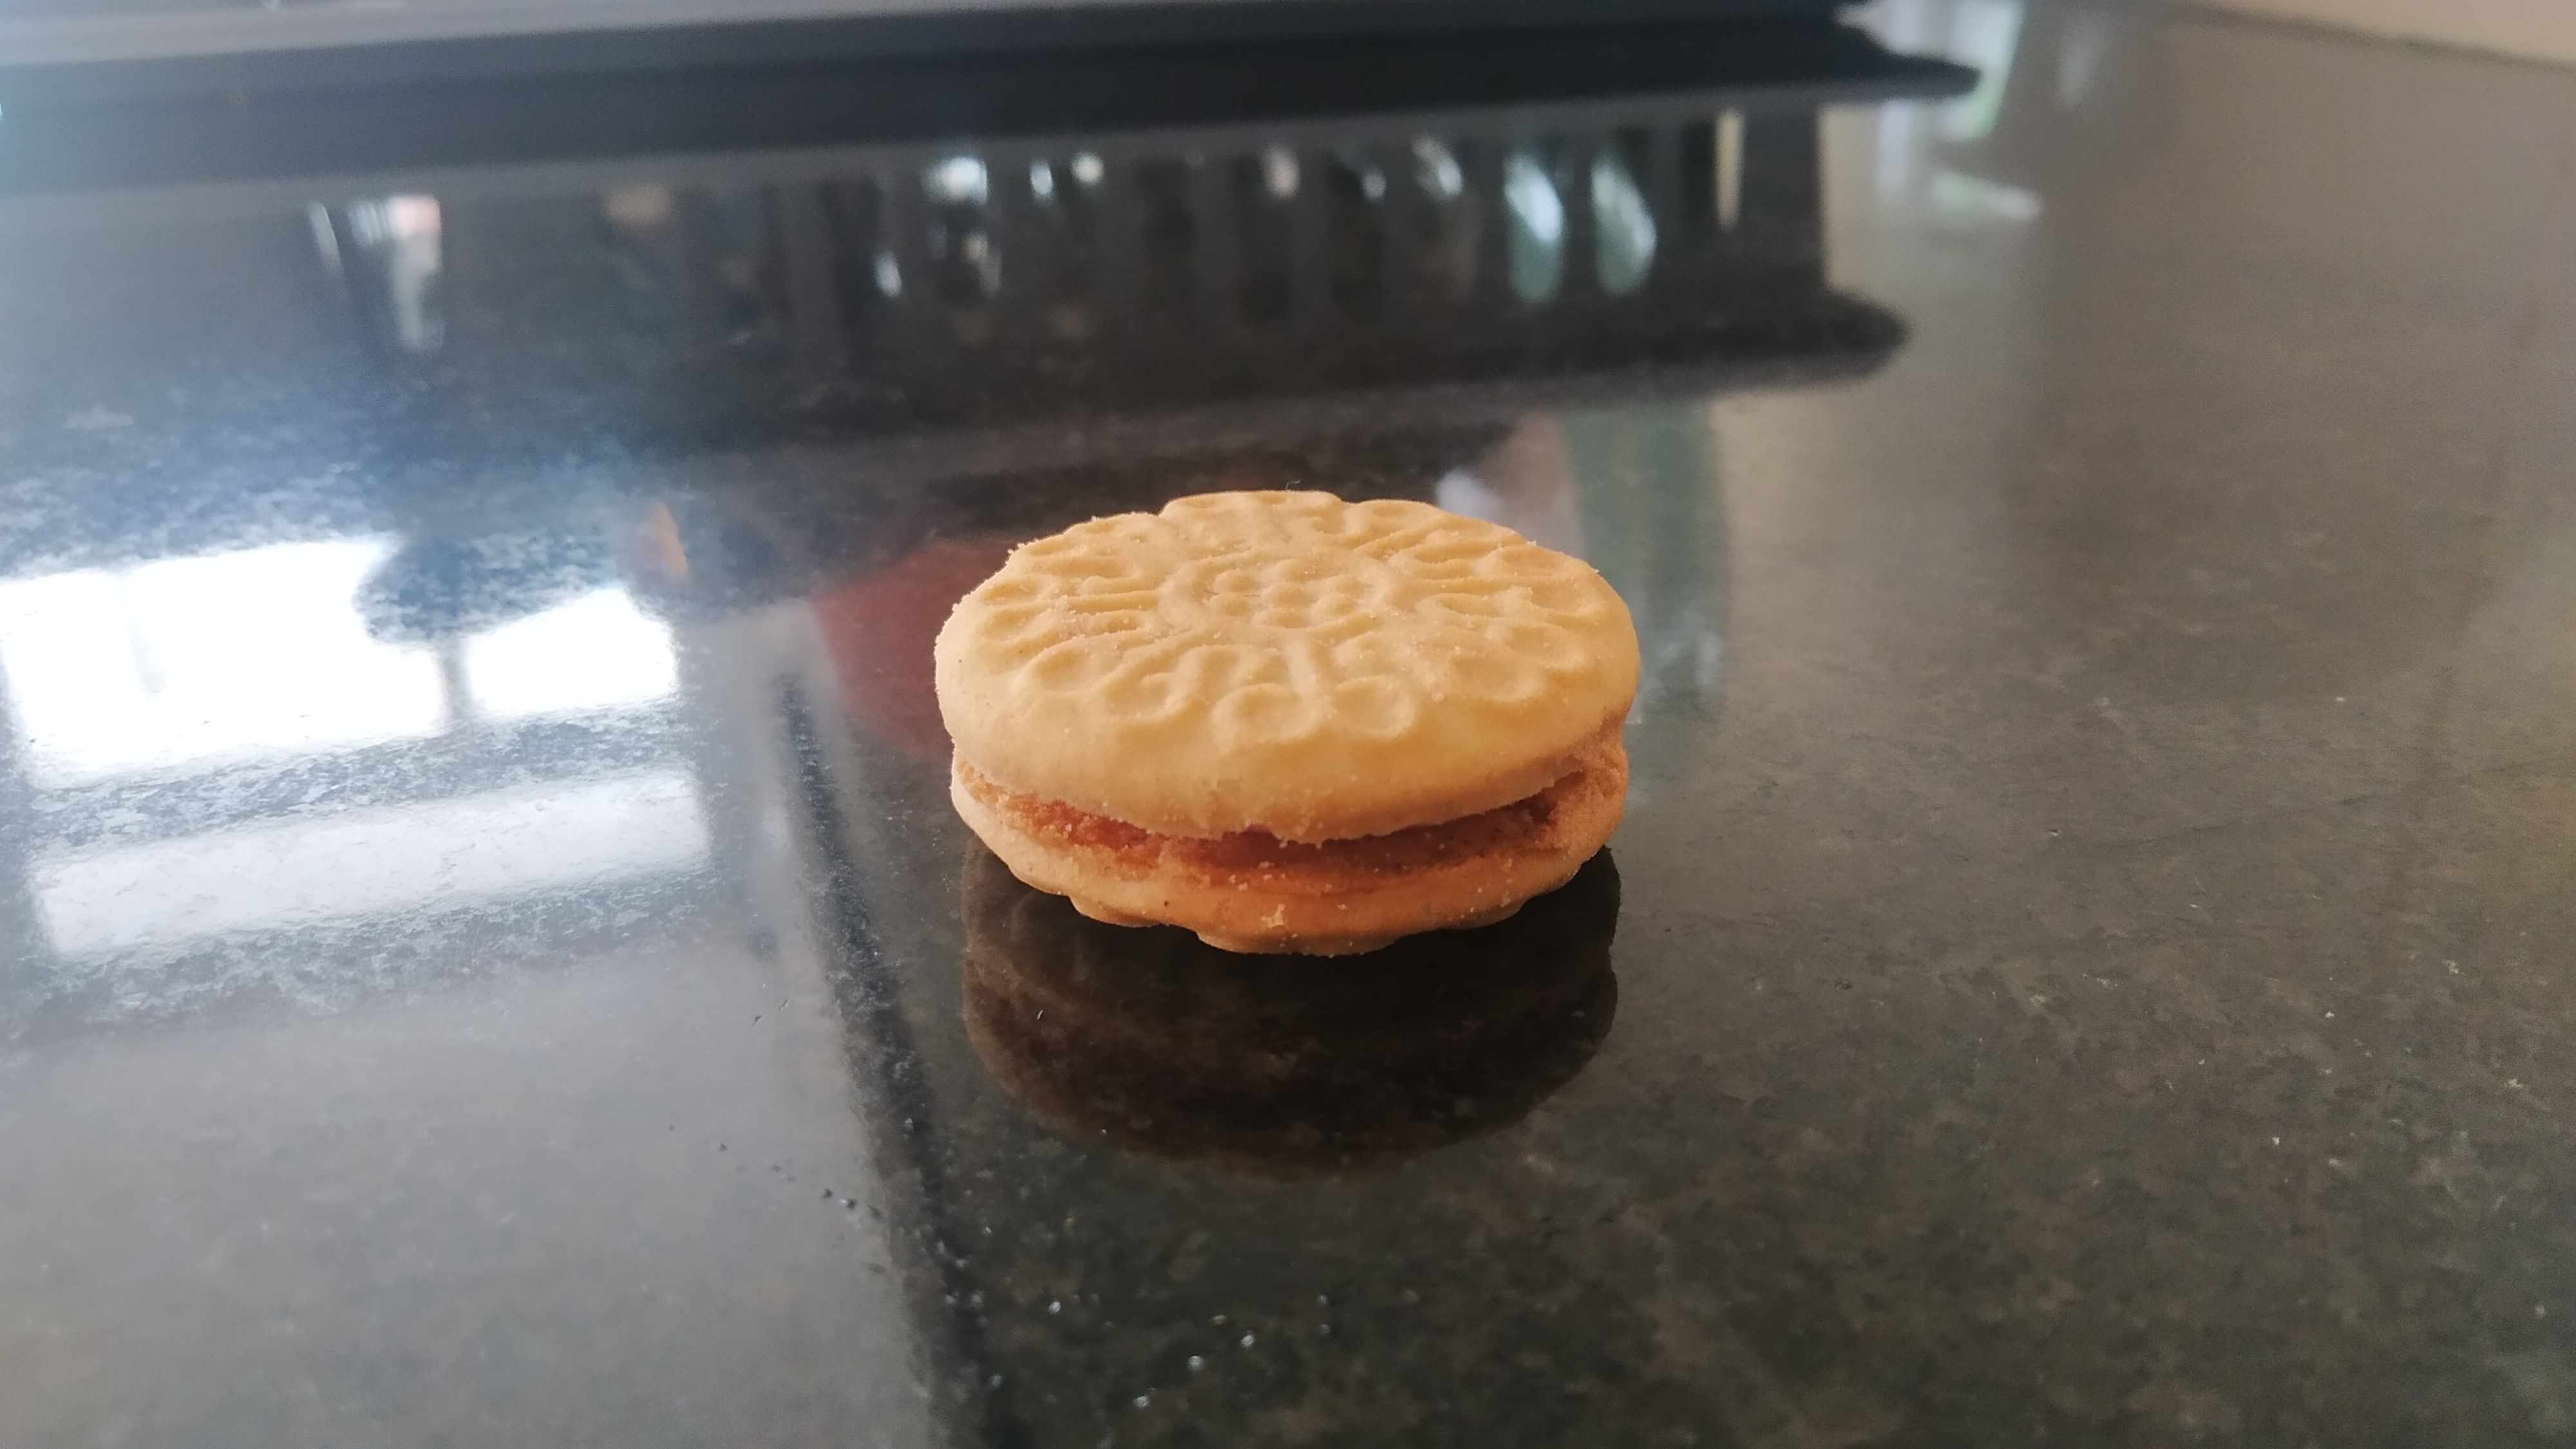lulu: (936, 488, 1642, 955)
